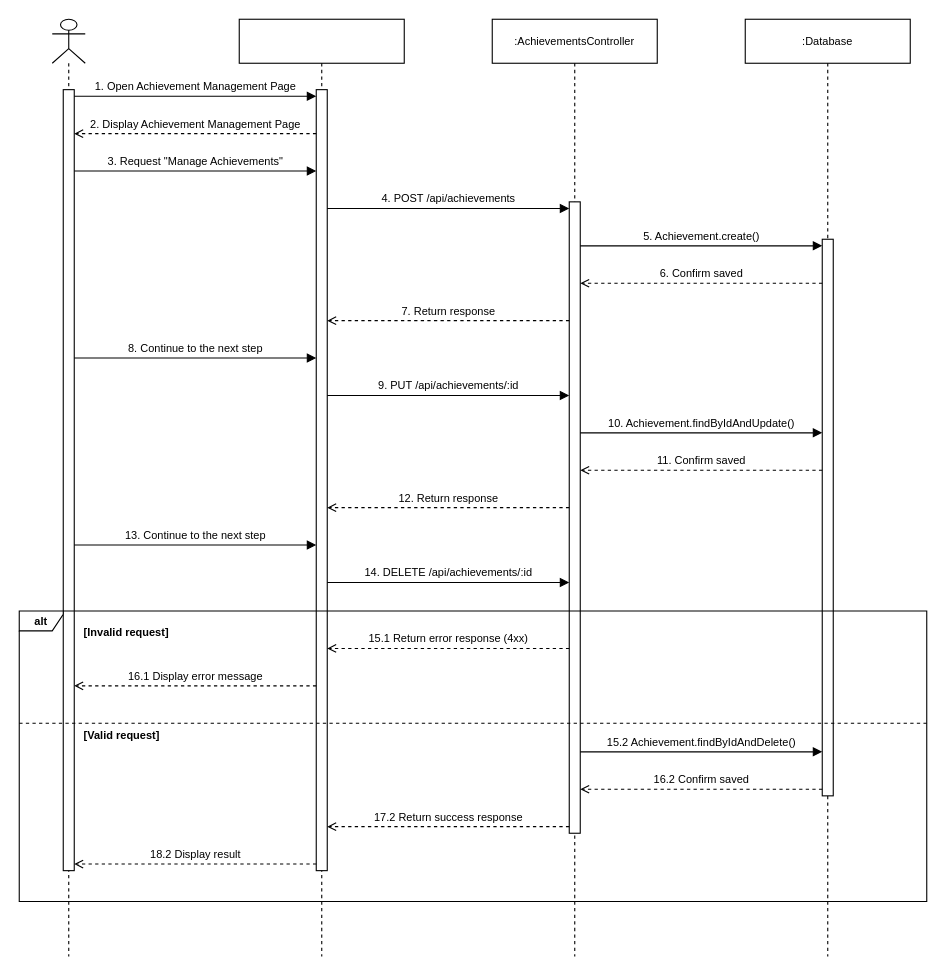
Image size: 947x976. Some labels were removed from this diagram. Here are the shapes that lost their labels. From the top down, the box of each, then its label:
(51, 18, 85, 956): Admin
(238, 18, 404, 956): :Achievement Management Page
